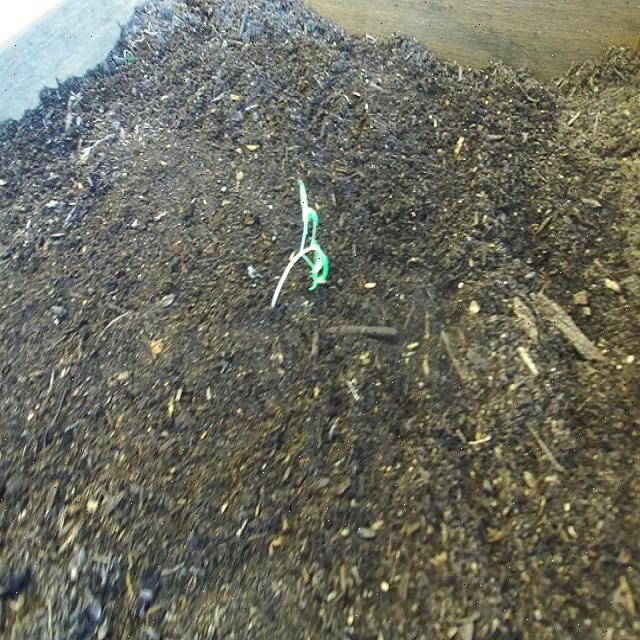Unhealthy: (264, 174, 335, 313)
